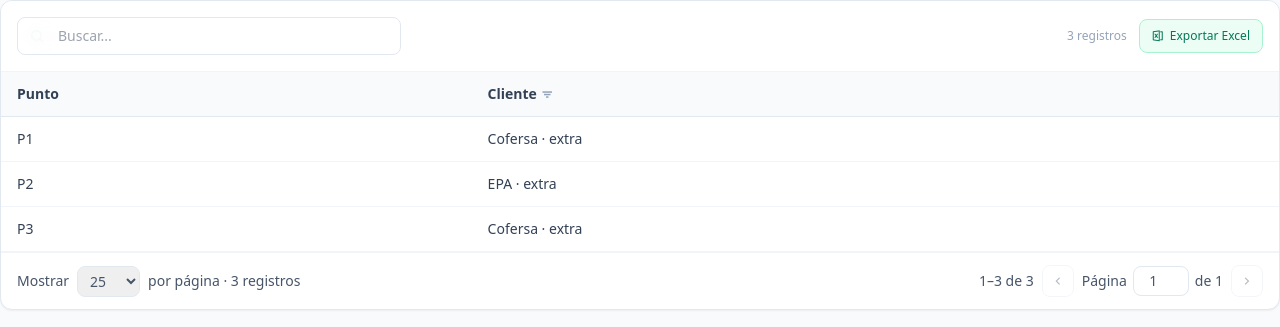
it: DataTable filtro Cliente con accessor anidado + paginación › marcar EPA deja solo la fila del punto EPA
The image size is (1280, 327).
// Ícono de filtro de la columna Cliente (única filterable).
Click the button with class "ri-filter-3-fill" at (547, 94), box [541,84,553,104]
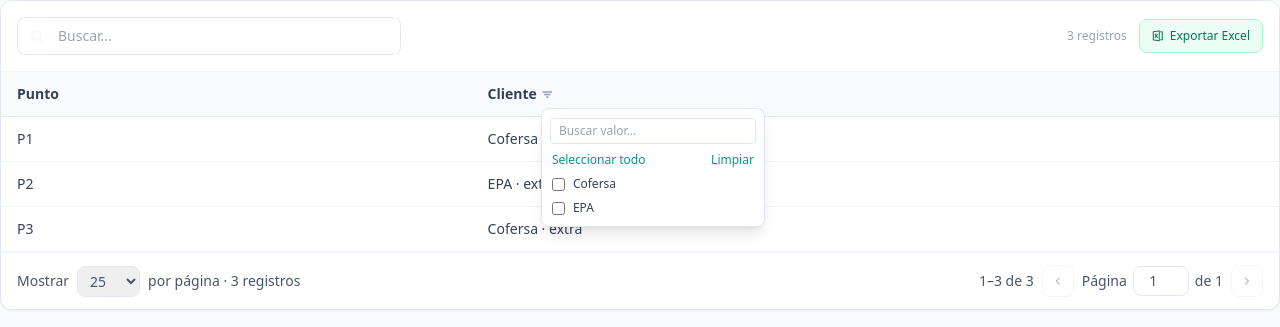
Expected: the element with class "z-50" is shown, [541,108,765,227]
Click the checkbox labelled "EPA" at (558, 208), box [552,202,565,214]
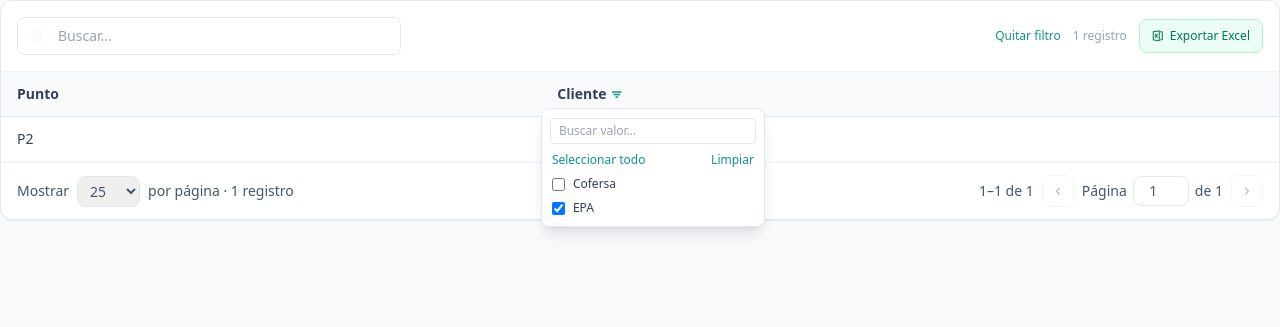
Expected: the text "P2" is shown, [1,116,541,162]
Expected: the text "P1" is gone
Expected: the text "P3" is gone
